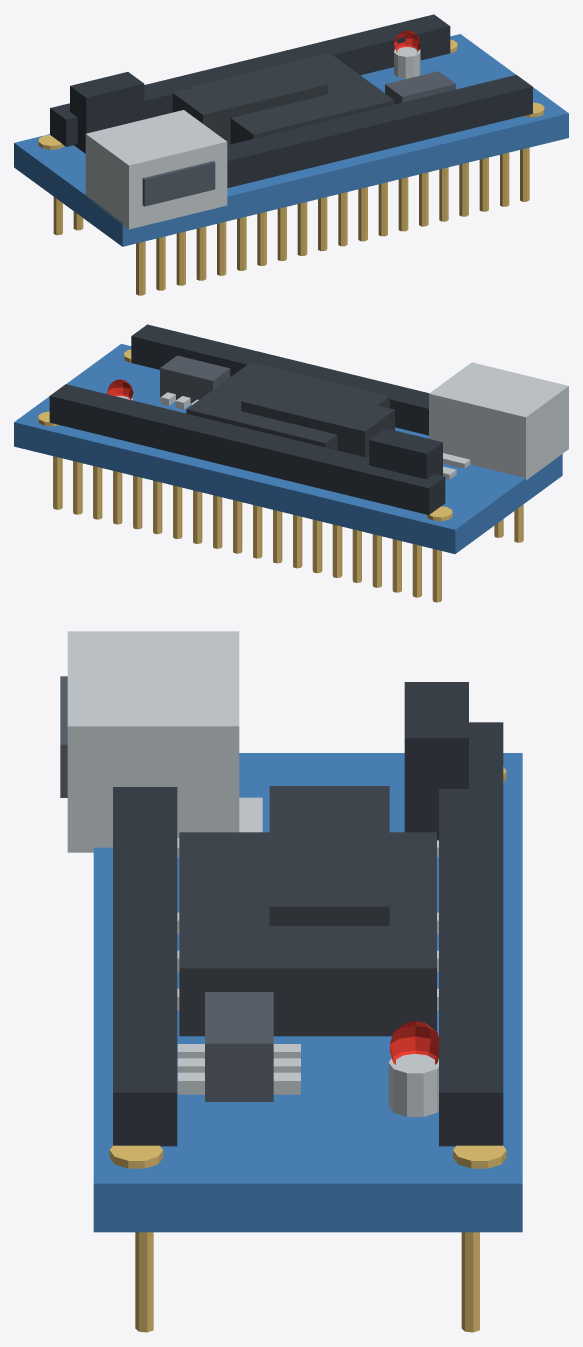
File: product-4.glb
3 renders of one model, top to bottom at view 1: azimuth 30°, elevation 25°; view 2: azimuth 150°, elevation 25°; view 3: azimuth 270°, elevation 25°, orthographic. The views are drawn at different scales.
Parts seen in each view (by area): view 1: product-4; view 2: product-4; view 3: product-4.
Boxes of the visible parts, bbox=[...] form: product-4: bbox=[14, 14, 568, 295]; product-4: bbox=[14, 324, 568, 602]; product-4: bbox=[60, 631, 522, 1332].
Bounding box in the file's own units: 0.95 × 0.305 × 0.431.
